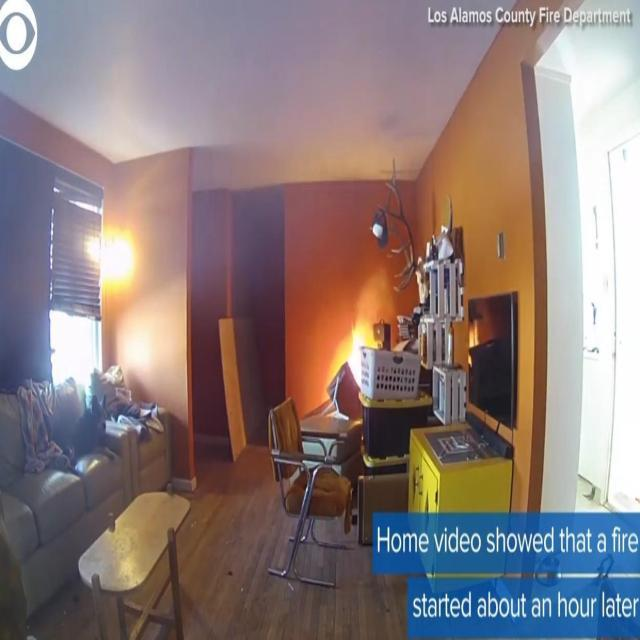smoke: (343, 319, 370, 392)
